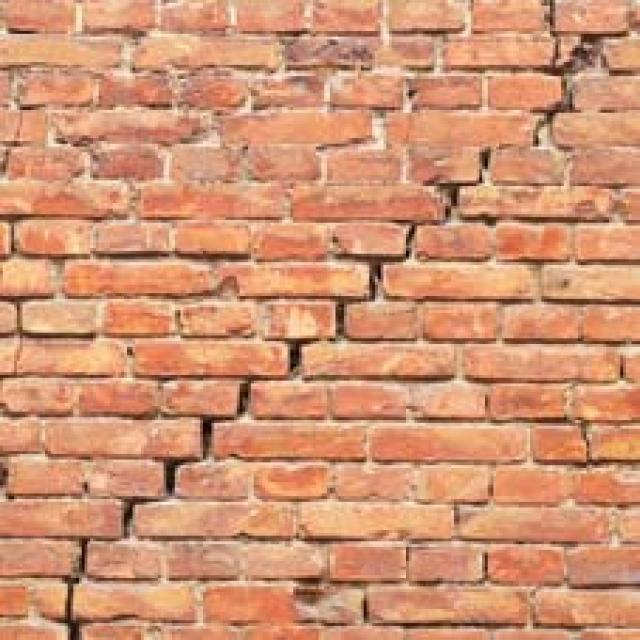Crack: (42, 14, 640, 640)
